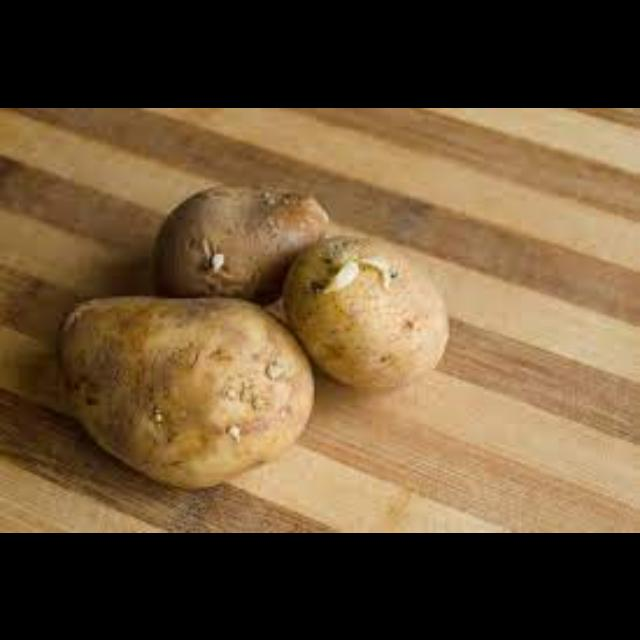Sprouted potato: (56, 295, 318, 487), (294, 234, 446, 388), (148, 188, 326, 304)
